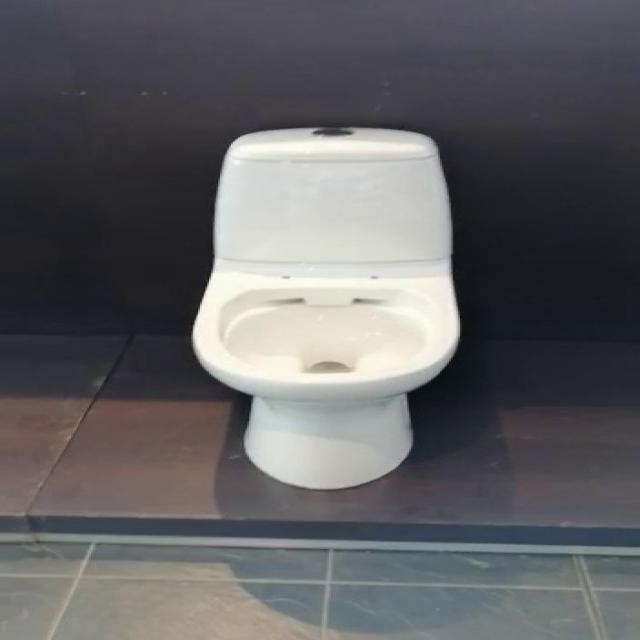toilet: (189, 124, 460, 490)
